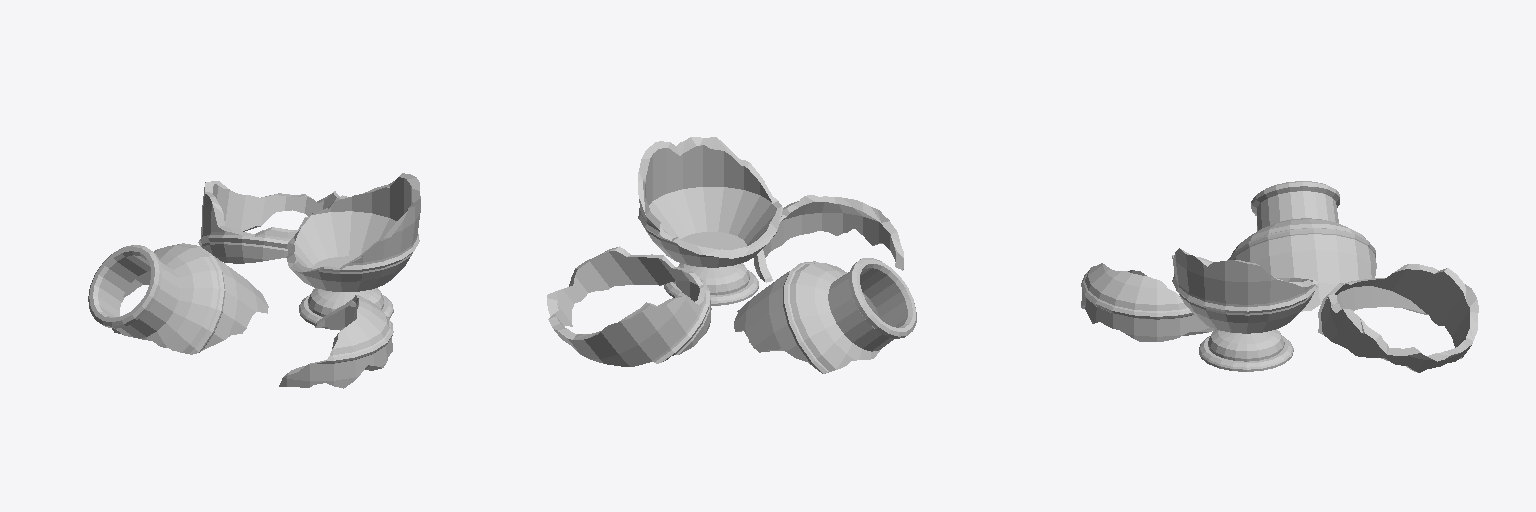
The model's file is pottery_brokenB.obj.
3 views of the same model, side by side, from view 1: azimuth 30°, elevation 25°; view 2: azimuth 150°, elevation 25°; view 3: azimuth 270°, elevation 25° (orthographic).
Parts seen in each view (by area): view 1: default; view 2: default; view 3: default.
Part boxes in pixels (bbox=[...]): default: bbox=[88, 173, 420, 388]; default: bbox=[547, 137, 916, 373]; default: bbox=[1081, 181, 1478, 372].
Bounding box in the file's own units: 7.28 × 2.91 × 8.36.